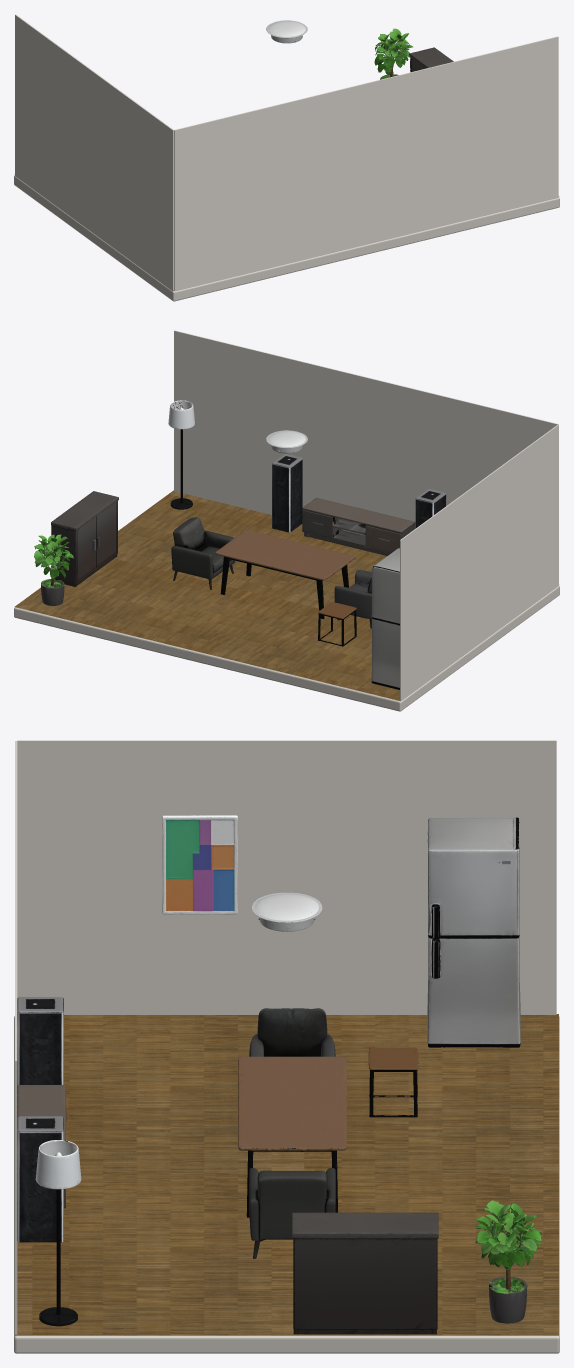
File: livingroom-primary.glb
3 views of the same model, one above another, from view 1: azimuth 30°, elevation 25°; view 2: azimuth 150°, elevation 25°; view 3: azimuth 270°, elevation 25° (orthographic). The views are drawn at different scales.
Parts seen in each view (by area): view 1: wall_north_01, wall_east_01, Display foundation, corner_potted_plant_01_mesh, central_ceiling_light_01_mesh, west_wall_cabinet_01_mesh; view 2: wall_north_01, floor_01, wall_east_01, Display foundation, dining_table_01_mesh, west_wall_cabinet_01_mesh, low_tv_stand_01_mesh, tall_fridge_01_mesh, short_side_armchairs_01_mesh, flanking_speakers_01_mesh, corner_potted_plant_01_mesh, short_side_armchairs_02_mesh (+4 smaller); view 3: wall_east_01, floor_01, tall_fridge_01_mesh, west_wall_cabinet_01_mesh, Display foundation, dining_table_01_mesh, east_wall_poster_01_mesh, short_side_armchairs_01_mesh, corner_potted_plant_01_mesh, flanking_speakers_01_mesh, flanking_speakers_02_mesh, short_side_armchairs_02_mesh (+5 smaller).
Boxes of the visible parts, x1,y1,x2,y2 form: wall_north_01: [174, 36, 558, 291]; wall_east_01: [15, 14, 173, 291]; Display foundation: [14, 175, 559, 301]; corner_potted_plant_01_mesh: [374, 28, 412, 79]; central_ceiling_light_01_mesh: [266, 20, 307, 43]; west_wall_cabinet_01_mesh: [409, 47, 453, 72]; wall_north_01: [174, 330, 558, 521]; floor_01: [15, 490, 400, 700]; wall_east_01: [400, 424, 558, 701]; Display foundation: [14, 585, 559, 711]; dining_table_01_mesh: [215, 530, 355, 619]; west_wall_cabinet_01_mesh: [51, 491, 118, 586]; low_tv_stand_01_mesh: [302, 497, 415, 555]; tall_fridge_01_mesh: [371, 548, 399, 689]; short_side_armchairs_01_mesh: [171, 517, 235, 589]; flanking_speakers_01_mesh: [272, 454, 302, 532]; corner_potted_plant_01_mesh: [34, 534, 73, 605]; short_side_armchairs_02_mesh: [334, 570, 371, 628]; wall_east_01: [17, 740, 556, 1014]; floor_01: [15, 1014, 558, 1335]; tall_fridge_01_mesh: [427, 817, 520, 1047]; west_wall_cabinet_01_mesh: [292, 1212, 438, 1334]; Display foundation: [14, 1016, 559, 1353]; dining_table_01_mesh: [238, 1056, 346, 1217]; east_wall_poster_01_mesh: [162, 815, 237, 914]; short_side_armchairs_01_mesh: [249, 1168, 335, 1258]; corner_potted_plant_01_mesh: [475, 1200, 542, 1323]; flanking_speakers_01_mesh: [17, 1116, 63, 1242]; flanking_speakers_02_mesh: [17, 997, 63, 1085]; short_side_armchairs_02_mesh: [249, 1008, 335, 1056].
Bounding box in the file's own units: 7.02 × 2.96 × 5.02.
16 materials, 14 textured.
